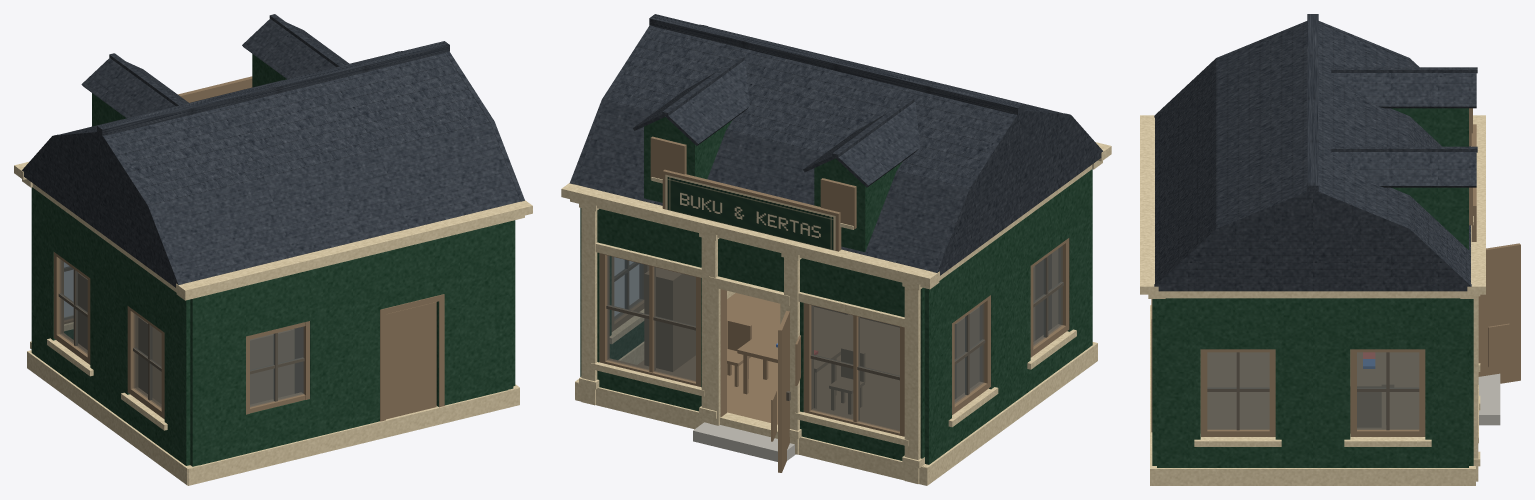
Rendered from buku-kertas-toko-blender-v2.glb.
3 renders of one model, left to right at view 1: azimuth 30°, elevation 25°; view 2: azimuth 150°, elevation 25°; view 3: azimuth 270°, elevation 25°, orthographic. The views are drawn at different scales.
Visible parts, largest first — view 1: buku_slate, buku_green, buku_wood, buku_cream, buku_glass, buku_dark; view 2: buku_slate, buku_green, buku_wood, buku_cream, buku_glass, buku_sign, buku_dark, buku_stone; view 3: buku_slate, buku_green, buku_wood, buku_cream, buku_glass, buku_dark, buku_stone.
Boxes of the visible parts, <box> form: buku_slate: <box>22,14,524,287</box>; buku_green: <box>31,54,515,466</box>; buku_wood: <box>53,76,444,421</box>; buku_cream: <box>14,162,532,485</box>; buku_glass: <box>60,259,303,407</box>; buku_dark: <box>58,266,304,401</box>; buku_slate: <box>569,14,1103,275</box>; buku_green: <box>580,117,1092,464</box>; buku_wood: <box>599,136,1069,472</box>; buku_cream: <box>561,142,1111,485</box>; buku_glass: <box>607,246,1062,431</box>; buku_sign: <box>665,174,835,250</box>; buku_dark: <box>606,256,1063,400</box>; buku_stone: <box>693,422,795,461</box>; buku_slate: <box>1154,14,1477,291</box>; buku_green: <box>1152,108,1473,467</box>; buku_wood: <box>1151,108,1520,436</box>; buku_cream: <box>1140,115,1485,485</box>; buku_glass: <box>1207,352,1419,429</box>; buku_dark: <box>1207,352,1419,430</box>; buku_stone: <box>1478,373,1500,425</box>.
Size of the model in its own units: 6.5 by 5.39 by 6.1.
10 materials, 4 textured.
